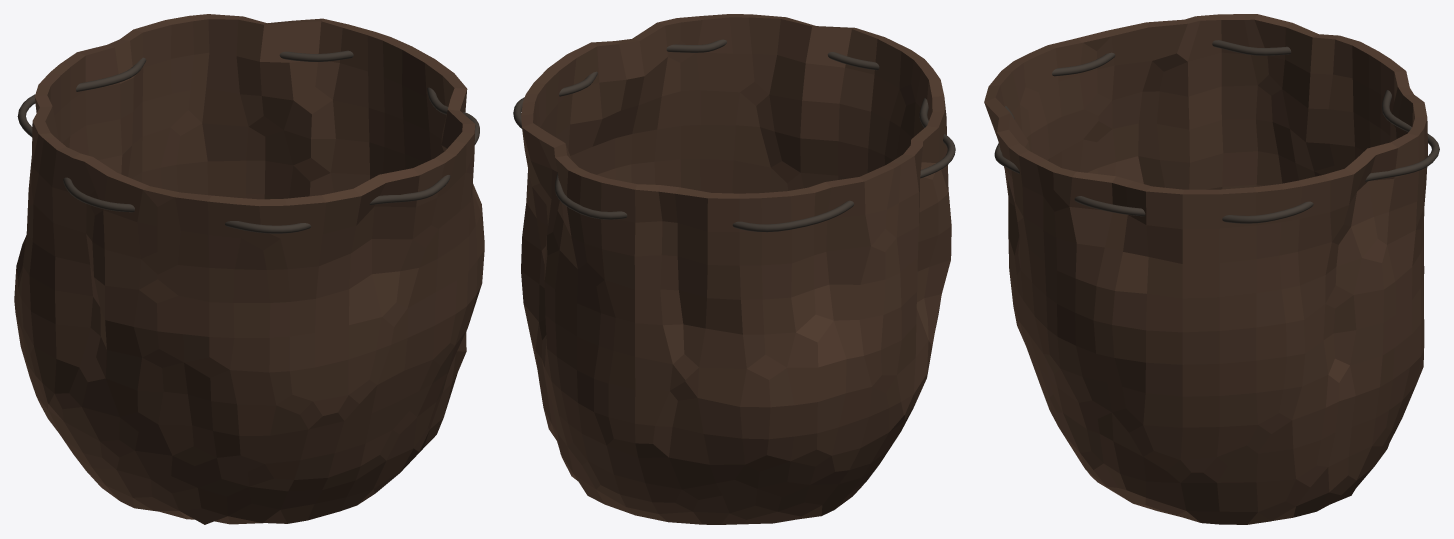
The model's file is pouch.fbx.
The picture shows the model from 3 angles, left to right: view 1: azimuth 30°, elevation 25°; view 2: azimuth 150°, elevation 25°; view 3: azimuth 270°, elevation 25°; orthographic projection. The views are drawn at different scales.
Parts seen in each view (by area): view 1: Sphere, NurbsCircle; view 2: Sphere, NurbsCircle; view 3: Sphere, NurbsCircle.
Part boxes in pixels (x1,y1,x2,y2): Sphere: (14, 14, 484, 524); NurbsCircle: (17, 50, 479, 233); Sphere: (521, 14, 951, 524); NurbsCircle: (513, 39, 955, 232); Sphere: (984, 14, 1427, 524); NurbsCircle: (994, 40, 1439, 223).
Size of the model in its own units: 396 by 366 by 408.
